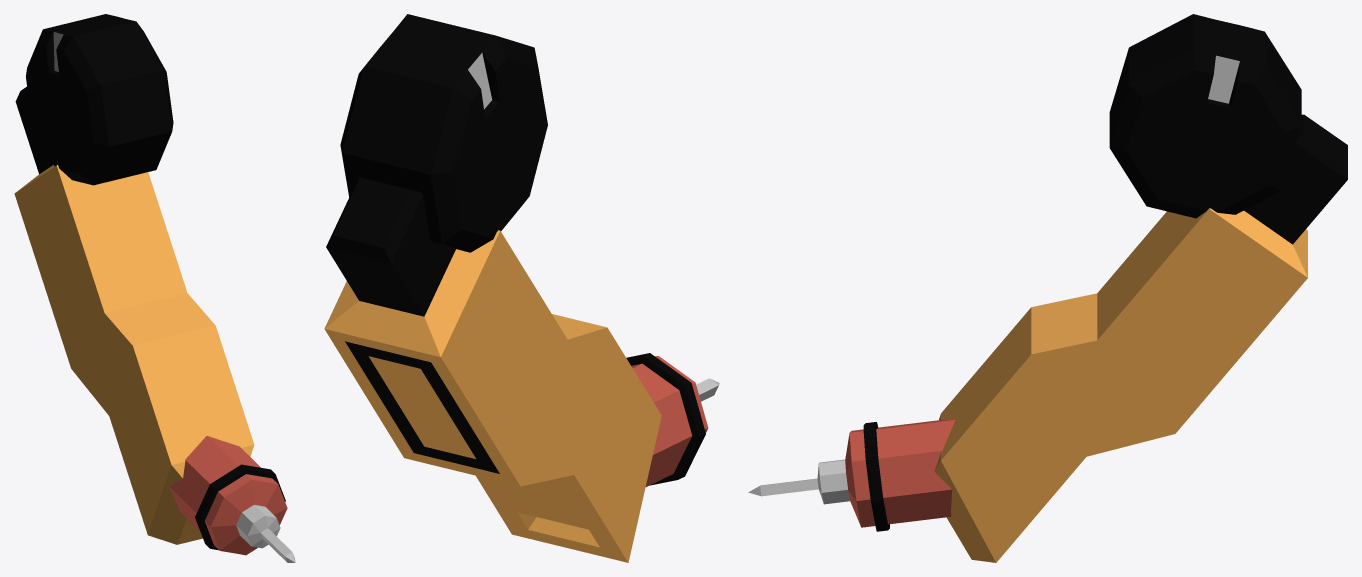
File: boss01-part.fbx
The picture shows the model from 3 angles, left to right: view 1: azimuth 30°, elevation 25°; view 2: azimuth 150°, elevation 25°; view 3: azimuth 270°, elevation 25°; orthographic projection. The views are drawn at different scales.
Parts seen in each view (by area): view 1: SM_Veh_Drone_Repair_01; view 2: SM_Veh_Drone_Repair_01; view 3: SM_Veh_Drone_Repair_01.
Boxes of the visible parts, x1=… form: SM_Veh_Drone_Repair_01: x1=14, y1=14, x2=295, y2=562; SM_Veh_Drone_Repair_01: x1=324, y1=14, x2=719, y2=562; SM_Veh_Drone_Repair_01: x1=748, y1=14, x2=1347, y2=562.
Size of the model in its own units: 107 by 524 by 554.
